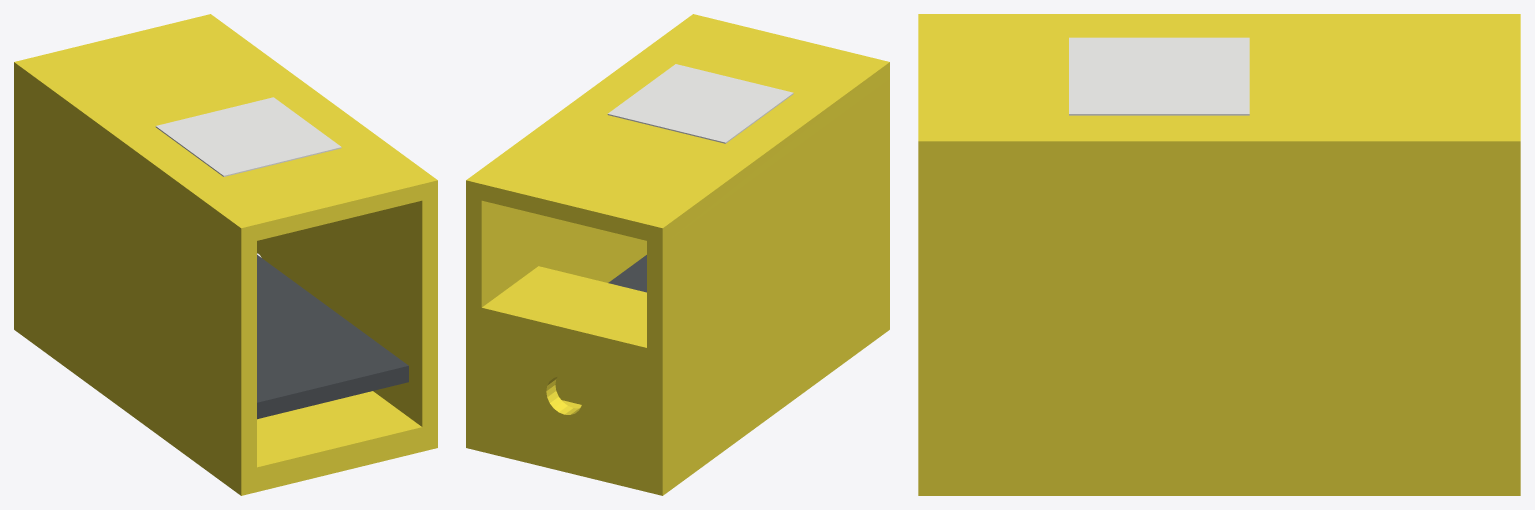
The model's file is footswitch.glb.
3 renders of one model, left to right at view 1: azimuth 30°, elevation 25°; view 2: azimuth 150°, elevation 25°; view 3: azimuth 270°, elevation 25°, orthographic. The views are drawn at different scales.
Parts seen in each view (by area): view 1: body, pedal; view 2: body, pedal; view 3: body.
Boxes of the visible parts, left/top/right/bottom form: body: left=14, top=14, right=437, bottom=495; pedal: left=257, top=253, right=408, bottom=419; body: left=466, top=14, right=889, bottom=495; pedal: left=608, top=255, right=646, bottom=292; body: left=918, top=14, right=1520, bottom=495.
Size of what is drawn, in the model's own units: 0.1 by 0.1306 by 0.2.
